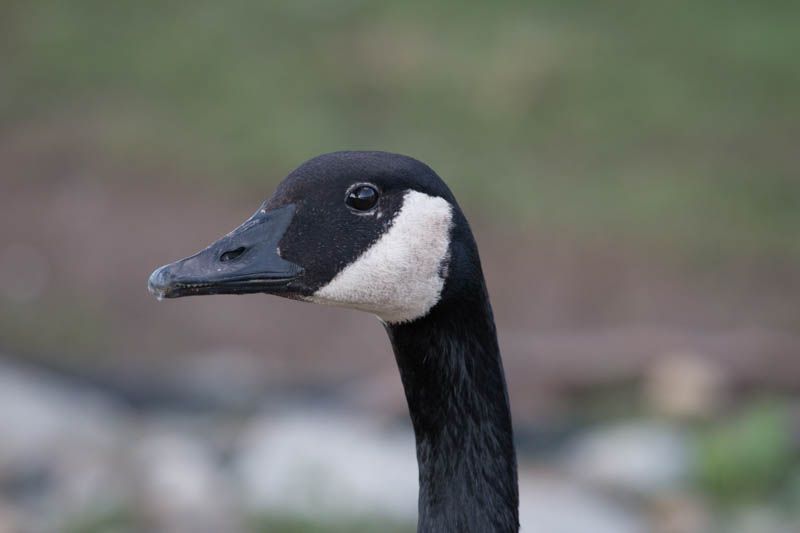goose-head: (146, 149, 493, 323)
